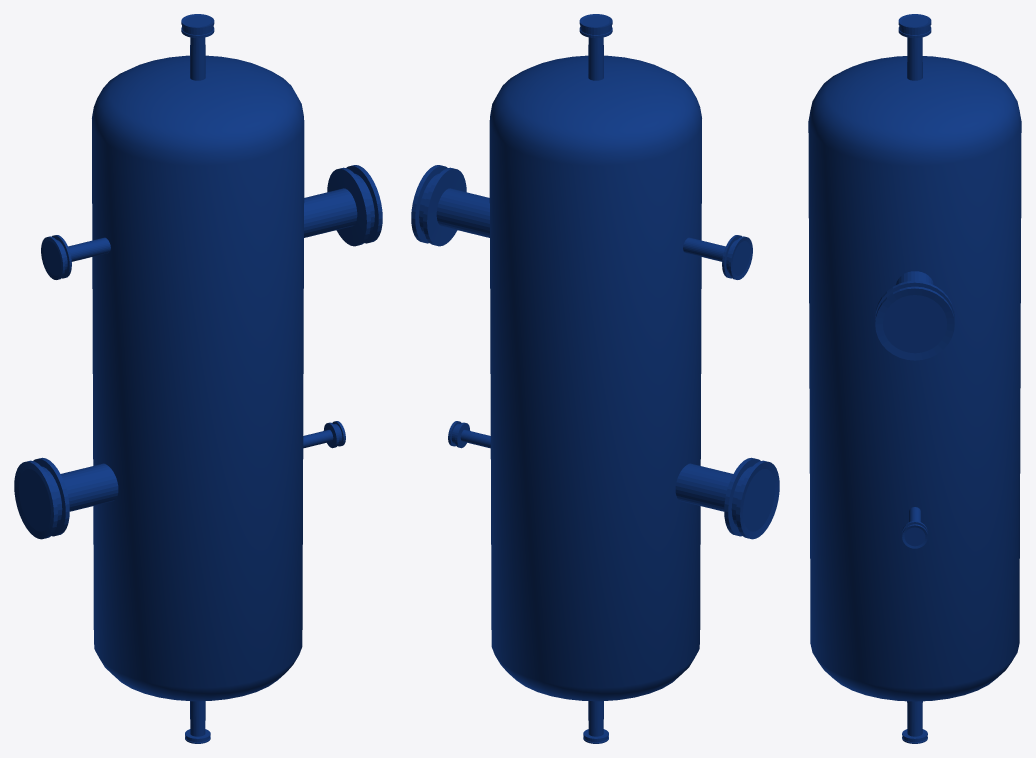
File: отдел.fbx
3 renders of one model, left to right at view 1: azimuth 30°, elevation 25°; view 2: azimuth 150°, elevation 25°; view 3: azimuth 270°, elevation 25°, orthographic.
Visible parts, largest first — view 1: Sphere.015, Cylinder.029, Cylinder.027, Cylinder.030, Cylinder.031, Cylinder.032, Cylinder.028; view 2: Sphere.015, Cylinder.029, Cylinder.027, Cylinder.030, Cylinder.031, Cylinder.032, Cylinder.028; view 3: Sphere.015, Cylinder.027, Cylinder.031, Cylinder.032, Cylinder.028.
Part boxes in pixels (x1=…): Sphere.015: x1=92, y1=55, x2=304, y2=701; Cylinder.029: x1=14, y1=457, x2=118, y2=539; Cylinder.027: x1=304, y1=165, x2=382, y2=246; Cylinder.030: x1=41, y1=235, x2=110, y2=279; Cylinder.031: x1=181, y1=14, x2=214, y2=80; Cylinder.032: x1=185, y1=701, x2=210, y2=743; Cylinder.028: x1=303, y1=421, x2=345, y2=448; Sphere.015: x1=489, y1=55, x2=701, y2=701; Cylinder.029: x1=675, y1=457, x2=779, y2=539; Cylinder.027: x1=411, y1=165, x2=489, y2=246; Cylinder.030: x1=683, y1=235, x2=752, y2=279; Cylinder.031: x1=579, y1=14, x2=612, y2=80; Cylinder.032: x1=583, y1=701, x2=608, y2=743; Cylinder.028: x1=448, y1=421, x2=490, y2=448; Sphere.015: x1=808, y1=56, x2=1021, y2=701; Cylinder.027: x1=875, y1=271, x2=954, y2=360; Cylinder.031: x1=898, y1=14, x2=931, y2=80; Cylinder.032: x1=902, y1=701, x2=927, y2=743; Cylinder.028: x1=902, y1=507, x2=927, y2=548.
Size of the model in its own units: 356 by 743 by 200.
